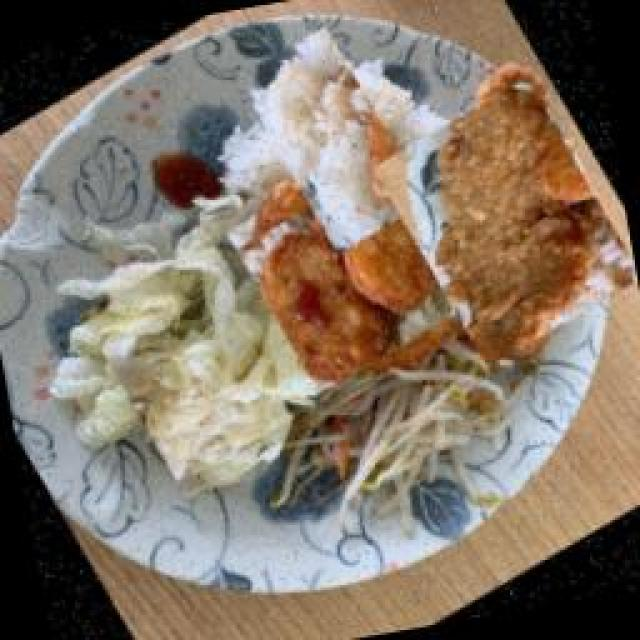Wet Waste: (360, 65, 640, 383), (73, 220, 335, 498), (225, 140, 493, 408), (218, 25, 448, 255), (308, 342, 510, 510)
